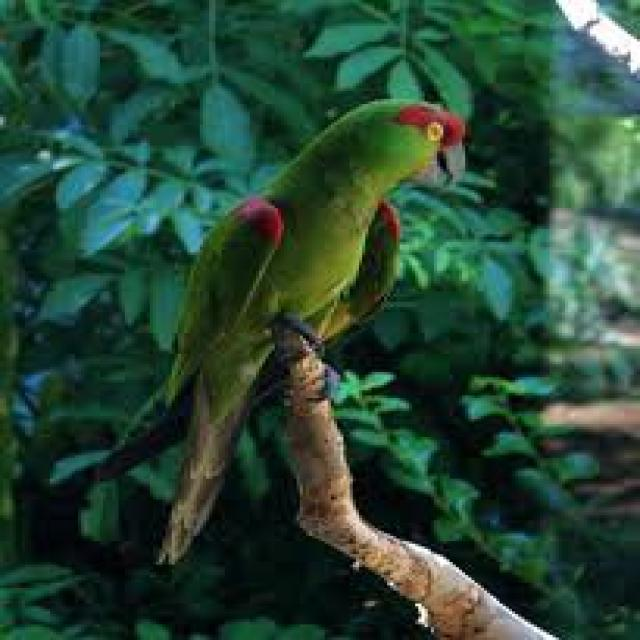Parrot: (148, 92, 475, 573)
